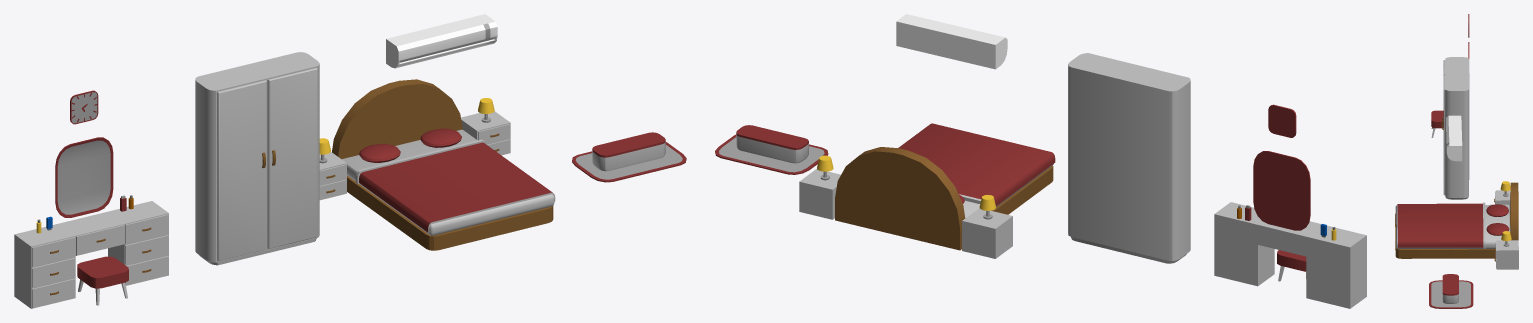
File: Bedroom 1.fbx
The picture shows the model from 3 angles, left to right: view 1: azimuth 30°, elevation 25°; view 2: azimuth 150°, elevation 25°; view 3: azimuth 270°, elevation 25°; orthographic projection. The views are drawn at different scales.
Parts seen in each view (by area): view 1: Bedroom.003, Bedroom.007, Bedroom.1, Bedroom.002, Bedroom.005; view 2: Bedroom.007, Bedroom.003, Bedroom.1, Bedroom.005, Bedroom.002; view 3: Bedroom.003, Bedroom.007, Bedroom.002, Bedroom.005, Bedroom.1.
Boxes of the visible parts, box(x1,y1,x2,y2) form: Bedroom.003: box(319, 79, 555, 250); Bedroom.007: box(195, 52, 319, 265); Bedroom.1: box(14, 90, 168, 308); Bedroom.002: box(572, 132, 686, 182); Bedroom.005: box(386, 14, 497, 68); Bedroom.007: box(1068, 53, 1190, 263); Bedroom.003: box(799, 123, 1055, 258); Bedroom.1: box(1214, 104, 1366, 308); Bedroom.005: box(896, 14, 1007, 69); Bedroom.002: box(715, 125, 828, 174); Bedroom.003: box(1395, 181, 1518, 269); Bedroom.007: box(1441, 57, 1469, 199); Bedroom.002: box(1429, 274, 1473, 308); Bedroom.005: box(1446, 115, 1462, 161); Bedroom.1: box(1431, 14, 1469, 137).
Size of the model in its own units: 2.73 by 0.7548 by 0.7262.
1 material, 1 textured.
